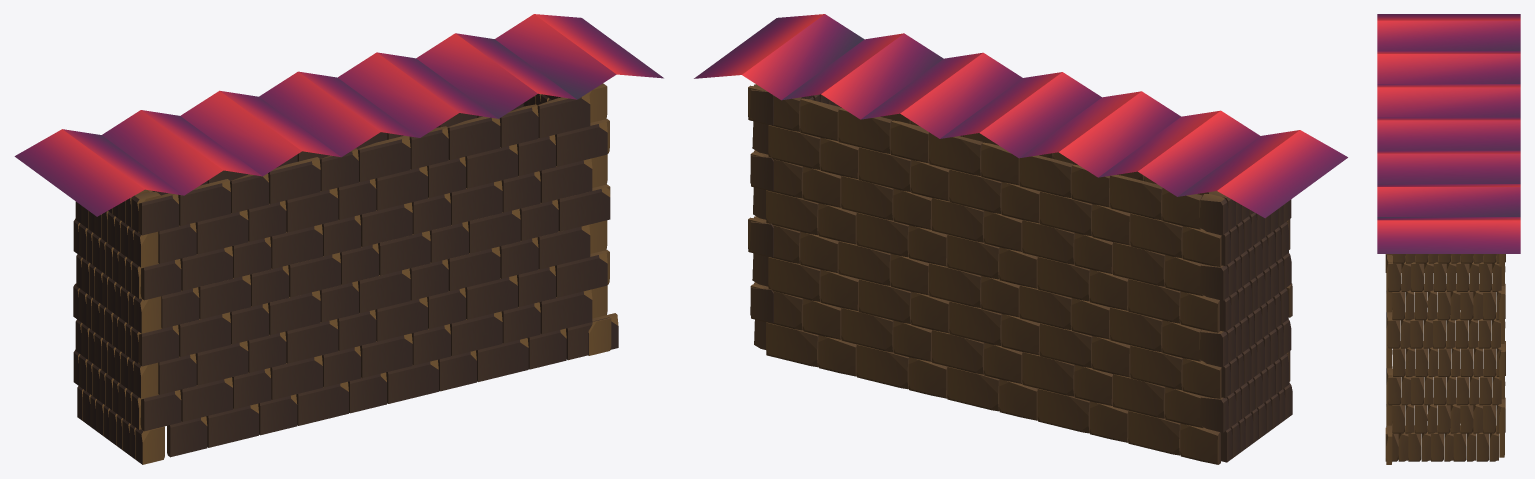
Rendered from garage.fbx.
3 views of the same model, side by side, from view 1: azimuth 30°, elevation 25°; view 2: azimuth 150°, elevation 25°; view 3: azimuth 270°, elevation 25° (orthographic). The views are drawn at different scales.
Parts seen in each view (by area): view 1: Cube.001; view 2: Cube.001; view 3: Cube.001.
Boxes of the visible parts, <box> form: Cube.001: <box>14,14,663,464</box>; Cube.001: <box>694,14,1347,464</box>; Cube.001: <box>1377,14,1520,464</box>.
Bounding box in the file's own units: 2235 × 1059 × 564.
